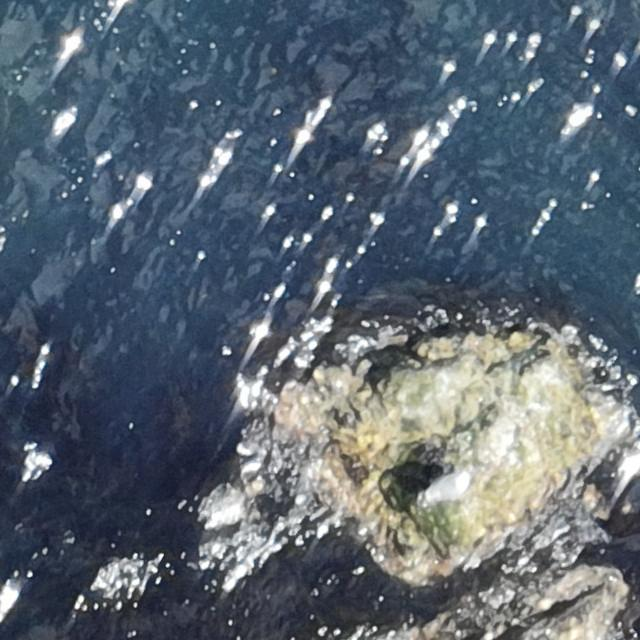umineko: (418, 473, 473, 505)
